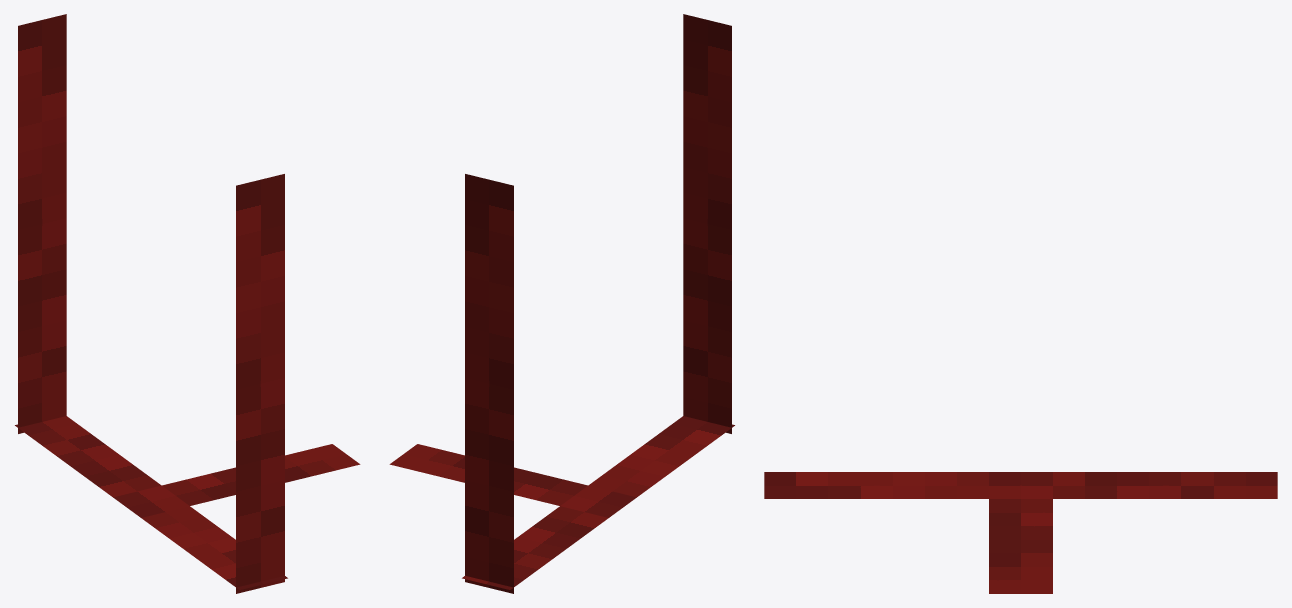
File: dust_1022.gltf
The picture shows the model from 3 angles, left to right: view 1: azimuth 30°, elevation 25°; view 2: azimuth 150°, elevation 25°; view 3: azimuth 270°, elevation 25°; orthographic projection. The views are drawn at different scales.
Parts seen in each view (by area): view 1: dust_1022; view 2: dust_1022; view 3: dust_1022.
Part boxes in pixels (box(x1,y1,x2,y2)): dust_1022: box(15, 14, 360, 593); dust_1022: box(389, 14, 734, 593); dust_1022: box(764, 472, 1277, 593).
Size of the model in its own units: 0.5625 by 1 by 1.
1 material, 1 textured.
